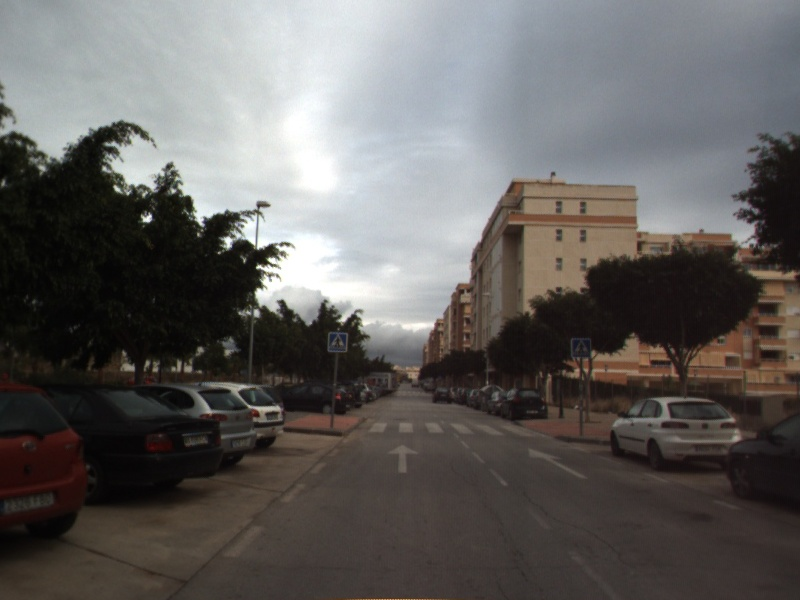STRAIGHT: (526, 446, 590, 481), (385, 443, 421, 475)
